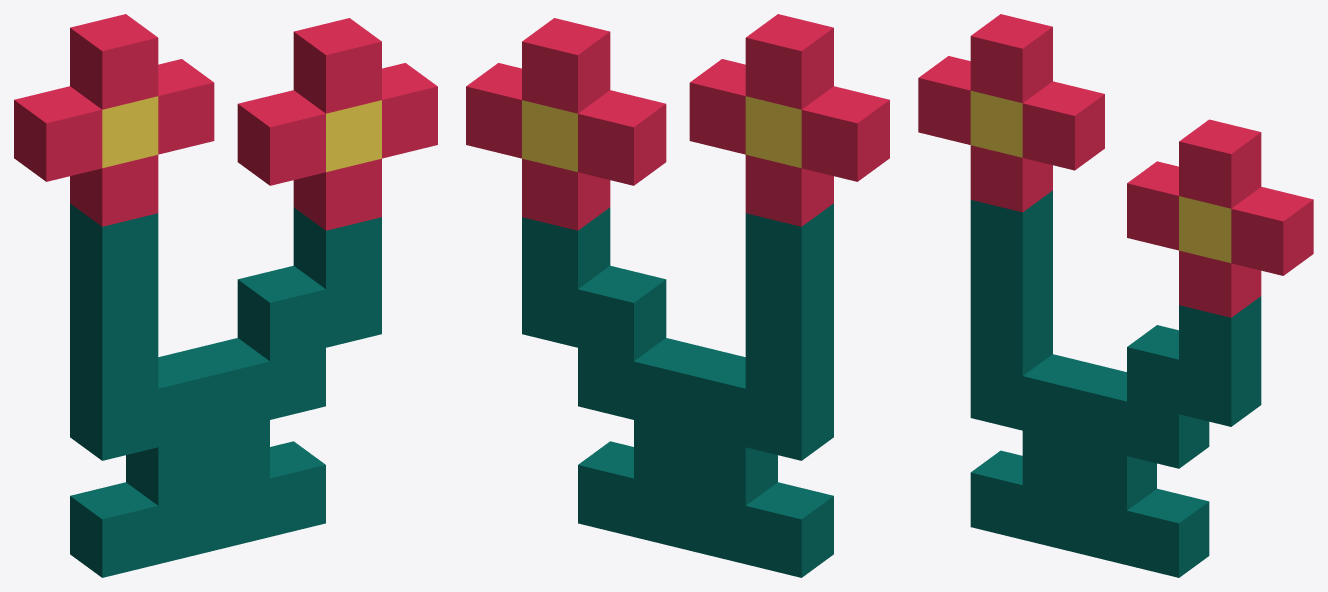
The model's file is flower-01.obj.
The picture shows the model from 3 angles, left to right: view 1: azimuth 30°, elevation 25°; view 2: azimuth 150°, elevation 25°; view 3: azimuth 330°, elevation 25°; orthographic projection. The views are drawn at different scales.
Size of the model in its own units: 7 by 9 by 1.
Materials: 1 (1 with a texture image).
